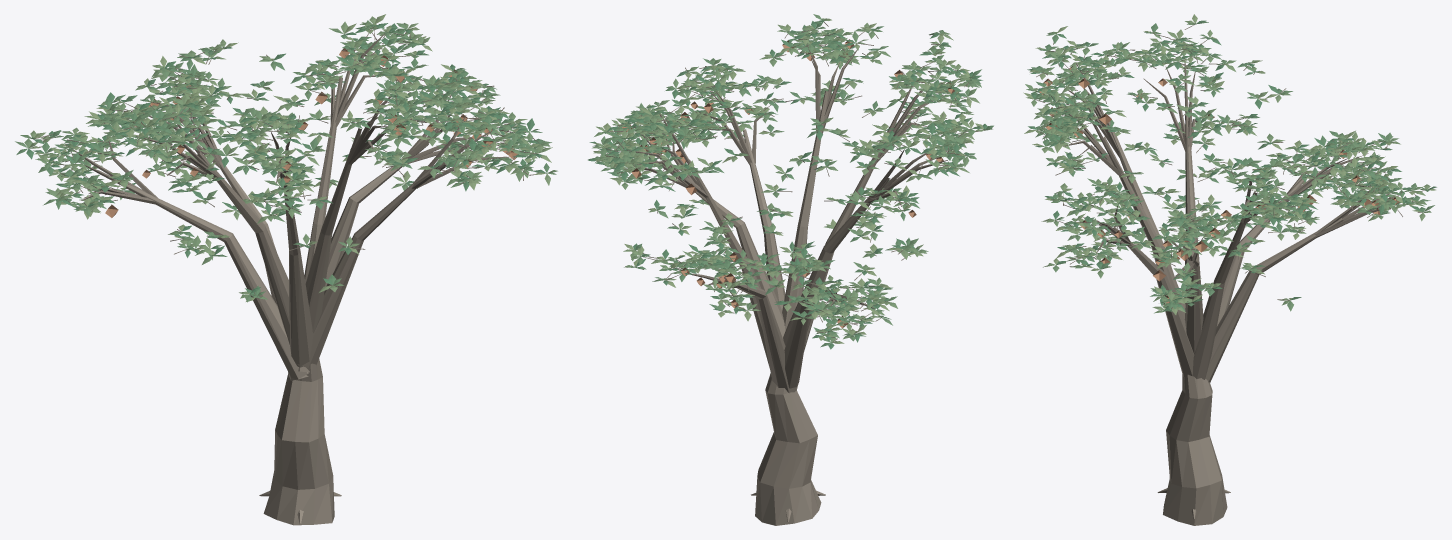
Rendered from E07_R2Z2_PITANGUEIRA_EM_PE_CANDIDATA_REV04.glb.
3 views of the same model, side by side, from view 1: azimuth 30°, elevation 25°; view 2: azimuth 150°, elevation 25°; view 3: azimuth 270°, elevation 25° (orthographic). The views are drawn at different scales.
Parts seen in each view (by area): view 1: E07_R2Z2_PITANGUEIRA_bark, E07_R2Z2_PITANGUEIRA_leaf1, E07_R2Z2_PITANGUEIRA_leaf2, E07_R2Z2_PITANGUEIRA_leaf3, E07_R2Z2_PITANGUEIRA_leaf5, E07_R2Z2_PITANGUEIRA_leaf0, E07_R2Z2_PITANGUEIRA_leaf4, E07_R2Z2_PITANGUEIRA_twig, E07_R2Z2_PITANGUEIRA_fruit; view 2: E07_R2Z2_PITANGUEIRA_bark, E07_R2Z2_PITANGUEIRA_leaf2, E07_R2Z2_PITANGUEIRA_leaf1, E07_R2Z2_PITANGUEIRA_leaf4, E07_R2Z2_PITANGUEIRA_leaf0, E07_R2Z2_PITANGUEIRA_leaf5, E07_R2Z2_PITANGUEIRA_leaf3, E07_R2Z2_PITANGUEIRA_twig, E07_R2Z2_PITANGUEIRA_fruit; view 3: E07_R2Z2_PITANGUEIRA_bark, E07_R2Z2_PITANGUEIRA_leaf5, E07_R2Z2_PITANGUEIRA_leaf1, E07_R2Z2_PITANGUEIRA_leaf3, E07_R2Z2_PITANGUEIRA_leaf4, E07_R2Z2_PITANGUEIRA_leaf2, E07_R2Z2_PITANGUEIRA_leaf0, E07_R2Z2_PITANGUEIRA_twig, E07_R2Z2_PITANGUEIRA_fruit.
Boxes of the visible parts, bbox=[...] form: E07_R2Z2_PITANGUEIRA_bark: bbox=[120, 77, 438, 525]; E07_R2Z2_PITANGUEIRA_leaf1: bbox=[16, 24, 549, 298]; E07_R2Z2_PITANGUEIRA_leaf2: bbox=[15, 20, 556, 302]; E07_R2Z2_PITANGUEIRA_leaf3: bbox=[20, 22, 557, 299]; E07_R2Z2_PITANGUEIRA_leaf5: bbox=[29, 14, 551, 301]; E07_R2Z2_PITANGUEIRA_leaf0: bbox=[26, 23, 546, 294]; E07_R2Z2_PITANGUEIRA_leaf4: bbox=[29, 16, 552, 296]; E07_R2Z2_PITANGUEIRA_twig: bbox=[29, 27, 541, 286]; E07_R2Z2_PITANGUEIRA_fruit: bbox=[105, 48, 517, 217]; E07_R2Z2_PITANGUEIRA_bark: bbox=[673, 91, 896, 525]; E07_R2Z2_PITANGUEIRA_leaf2: bbox=[595, 14, 992, 342]; E07_R2Z2_PITANGUEIRA_leaf1: bbox=[588, 21, 993, 347]; E07_R2Z2_PITANGUEIRA_leaf4: bbox=[593, 18, 983, 342]; E07_R2Z2_PITANGUEIRA_leaf0: bbox=[588, 20, 987, 349]; E07_R2Z2_PITANGUEIRA_leaf5: bbox=[593, 18, 983, 343]; E07_R2Z2_PITANGUEIRA_leaf3: bbox=[592, 18, 986, 342]; E07_R2Z2_PITANGUEIRA_twig: bbox=[605, 22, 984, 342]; E07_R2Z2_PITANGUEIRA_fruit: bbox=[618, 39, 957, 328]; E07_R2Z2_PITANGUEIRA_bark: bbox=[1103, 115, 1343, 525]; E07_R2Z2_PITANGUEIRA_leaf5: bbox=[1023, 14, 1435, 314]; E07_R2Z2_PITANGUEIRA_leaf1: bbox=[1031, 21, 1429, 311]; E07_R2Z2_PITANGUEIRA_leaf3: bbox=[1025, 22, 1431, 313]; E07_R2Z2_PITANGUEIRA_leaf4: bbox=[1026, 20, 1430, 312]; E07_R2Z2_PITANGUEIRA_leaf2: bbox=[1026, 23, 1434, 311]; E07_R2Z2_PITANGUEIRA_leaf0: bbox=[1027, 20, 1436, 311]; E07_R2Z2_PITANGUEIRA_twig: bbox=[1035, 24, 1424, 302]; E07_R2Z2_PITANGUEIRA_fruit: bbox=[1039, 66, 1399, 303].
Size of the model in its own units: 4.56 by 5 by 4.23.
